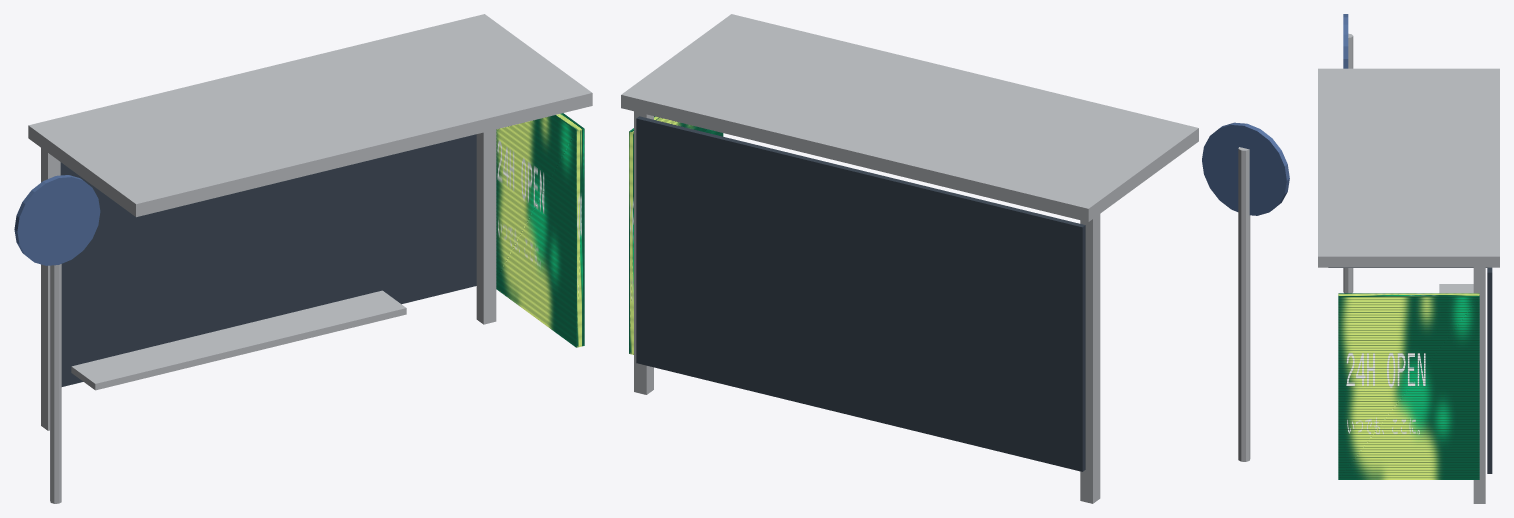
File: bus_shelter.glb
3 views of the same model, side by side, from view 1: azimuth 30°, elevation 25°; view 2: azimuth 150°, elevation 25°; view 3: azimuth 270°, elevation 25° (orthographic). The views are drawn at different scales.
Visible parts, largest first — view 1: bus_shelter; view 2: bus_shelter; view 3: bus_shelter.
Boxes of the visible parts, x1,y1,x2,y2 form: bus_shelter: (14,14,592,503); bus_shelter: (621,14,1289,503); bus_shelter: (1318,14,1499,503).
Size of the model in its own units: 5.44 by 3 by 1.8.
4 materials, 1 textured.
